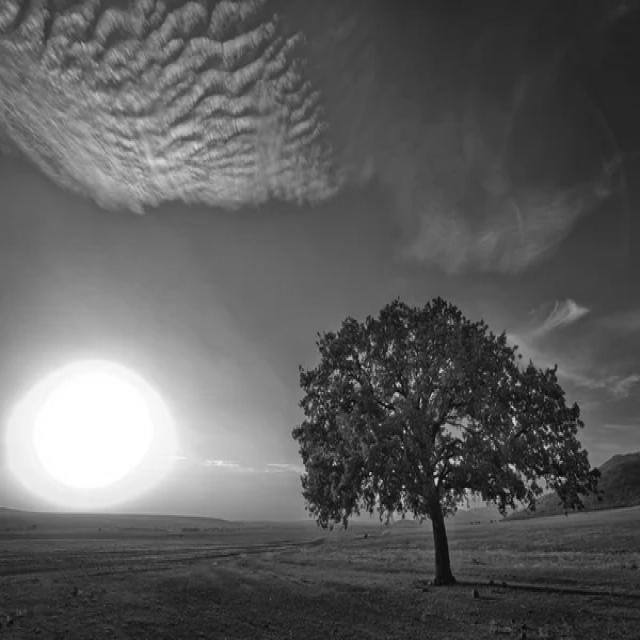Tree: (294, 298, 600, 586)
